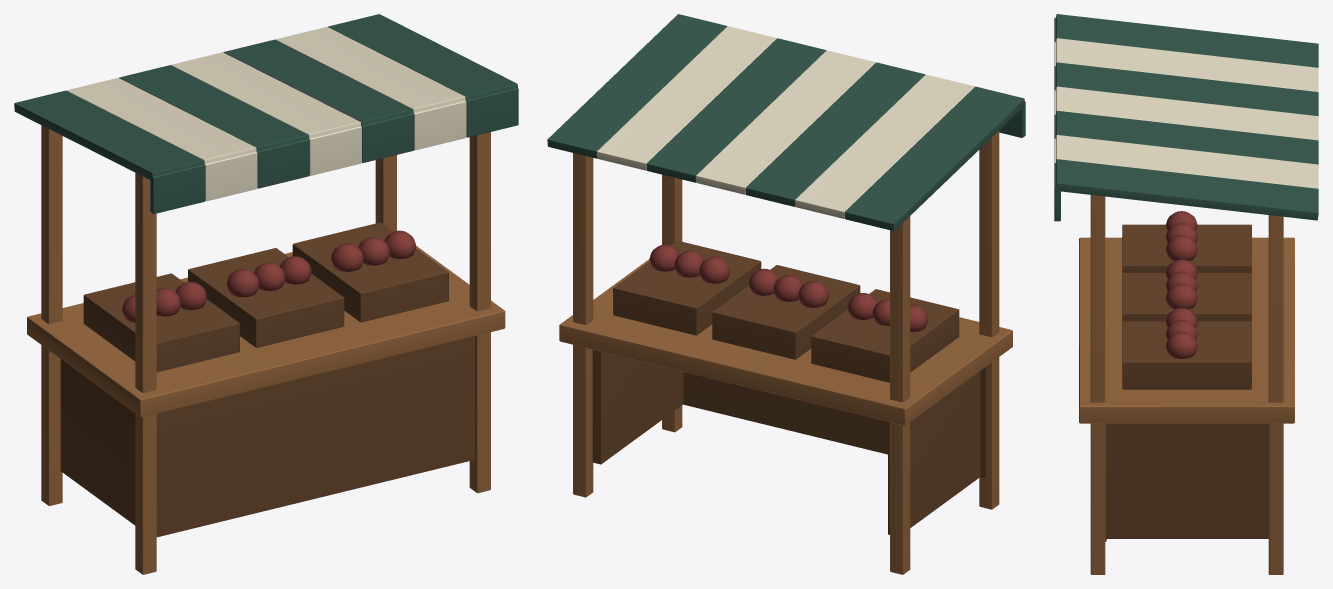
The model's file is S055_market_stall_rebuilt.glb.
3 renders of one model, left to right at view 1: azimuth 30°, elevation 25°; view 2: azimuth 150°, elevation 25°; view 3: azimuth 270°, elevation 25°, orthographic. The views are drawn at different scales.
Visible parts, largest first — view 1: Oak_end_and_edge.001, Oiled_warm_oak.001, Deep_green_outdoor_paint, Warm_ivory.001, Burgundy_upholstery.001; view 2: Oak_end_and_edge.001, Oiled_warm_oak.001, Deep_green_outdoor_paint, Warm_ivory.001, Burgundy_upholstery.001; view 3: Oak_end_and_edge.001, Deep_green_outdoor_paint, Oiled_warm_oak.001, Warm_ivory.001, Burgundy_upholstery.001.
Boxes of the visible parts, x1,y1,x2,y2 form: Oak_end_and_edge.001: [60, 222, 474, 537]; Oiled_warm_oak.001: [27, 125, 505, 574]; Deep_green_outdoor_paint: [14, 14, 518, 213]; Warm_ivory.001: [66, 27, 466, 201]; Burgundy_upholstery.001: [121, 230, 416, 322]; Oak_end_and_edge.001: [592, 241, 986, 534]; Oiled_warm_oak.001: [559, 131, 1012, 574]; Deep_green_outdoor_paint: [547, 14, 1025, 230]; Warm_ivory.001: [597, 26, 974, 218]; Burgundy_upholstery.001: [649, 244, 928, 331]; Oak_end_and_edge.001: [1105, 224, 1268, 541]; Deep_green_outdoor_paint: [1054, 14, 1318, 221]; Oiled_warm_oak.001: [1079, 195, 1294, 574]; Warm_ivory.001: [1054, 38, 1318, 188]; Burgundy_upholstery.001: [1165, 211, 1197, 358].
Bounding box in the file's own units: 2.3 × 2.51 × 1.52.
